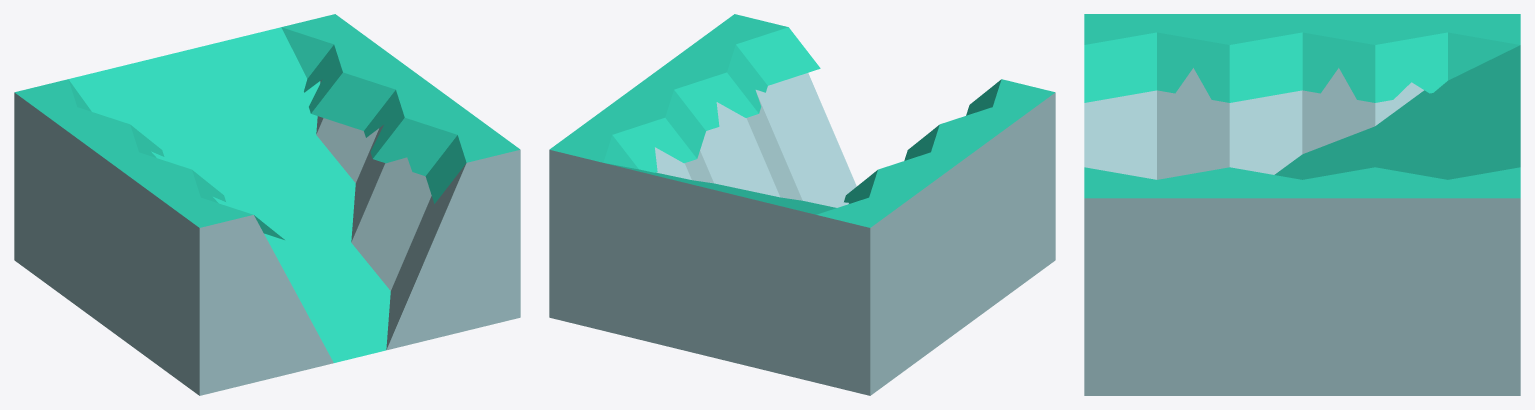
File: cliff_blockSlopeHalfWalls_stone.fbx
The picture shows the model from 3 angles, left to right: view 1: azimuth 30°, elevation 25°; view 2: azimuth 150°, elevation 25°; view 3: azimuth 270°, elevation 25°; orthographic projection. The views are drawn at different scales.
Visible parts, largest first — view 1: cliff_blockSlopeHalfWalls_stone; view 2: cliff_blockSlopeHalfWalls_stone; view 3: cliff_blockSlopeHalfWalls_stone.
Boxes of the visible parts, <box> form: cliff_blockSlopeHalfWalls_stone: <box>14,14,520,395</box>; cliff_blockSlopeHalfWalls_stone: <box>549,14,1055,395</box>; cliff_blockSlopeHalfWalls_stone: <box>1084,14,1520,395</box>.
Size of the model in its own units: 10 by 5 by 10.
